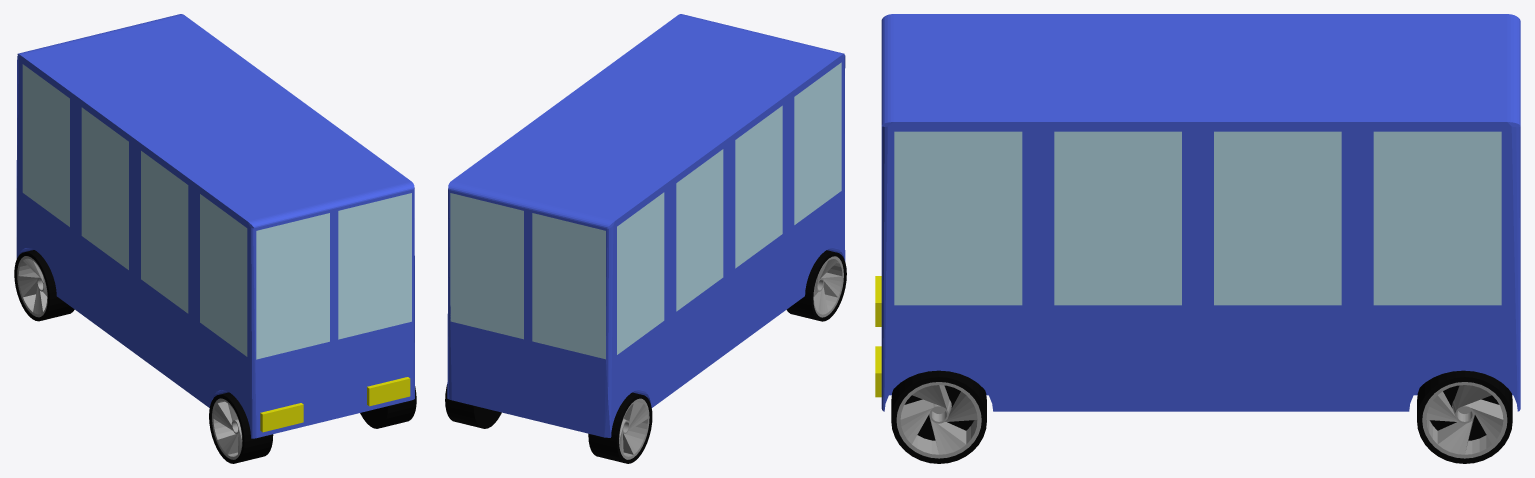
File: bus.glb
3 views of the same model, side by side, from view 1: azimuth 30°, elevation 25°; view 2: azimuth 150°, elevation 25°; view 3: azimuth 270°, elevation 25° (orthographic). The views are drawn at different scales.
Visible parts, largest first — view 1: busbody, front_wheel, back_wheel; view 2: busbody, back_wheel, front_wheel; view 3: busbody, front_wheel, back_wheel.
Boxes of the visible parts, bbox=[...] form: busbody: bbox=[16, 14, 414, 438]; front_wheel: bbox=[209, 386, 416, 463]; back_wheel: bbox=[14, 250, 74, 321]; busbody: bbox=[447, 14, 845, 437]; back_wheel: bbox=[445, 384, 652, 463]; front_wheel: bbox=[786, 250, 846, 321]; busbody: bbox=[875, 14, 1520, 411]; front_wheel: bbox=[891, 370, 986, 463]; back_wheel: bbox=[1417, 370, 1512, 463].
Bounding box in the file's own units: 4.2 × 5.86 × 10.1.
